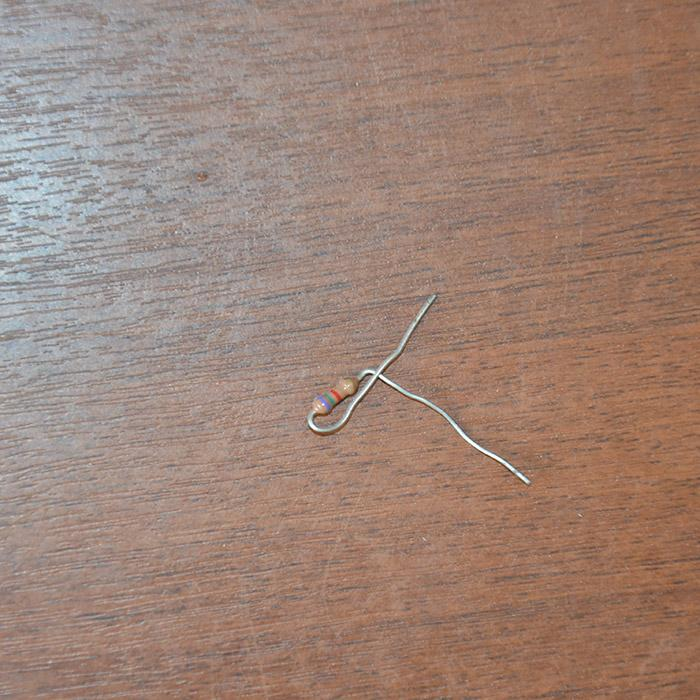resistor: (310, 376, 359, 415)
